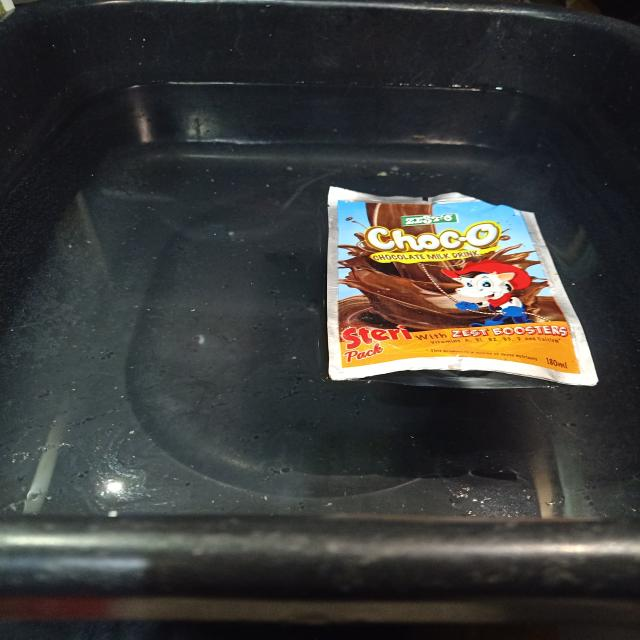Plastic Pouch: (327, 187, 597, 385)
